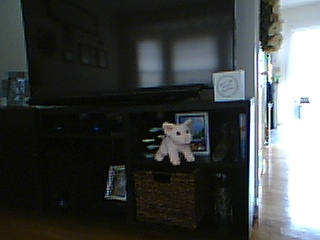piggy: (154, 117, 197, 166)
